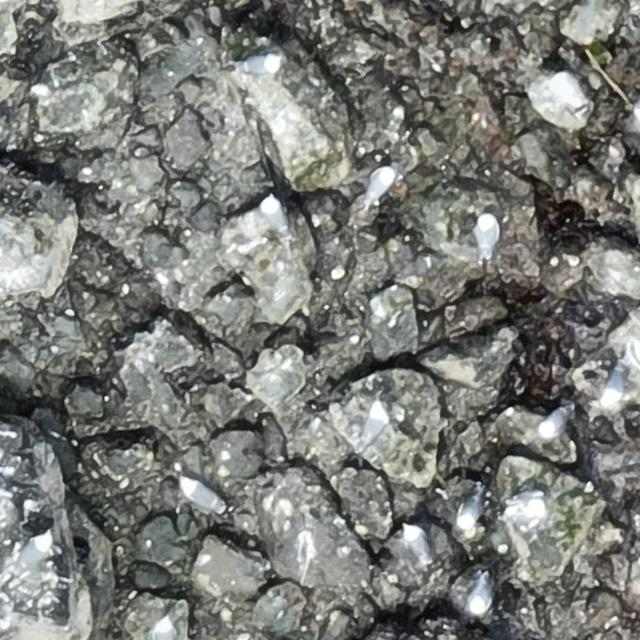umineko: (178, 478, 226, 512), (12, 534, 52, 572), (261, 196, 293, 243), (456, 487, 488, 529), (362, 168, 396, 203), (363, 402, 388, 448), (466, 573, 494, 613), (600, 368, 626, 408), (403, 522, 429, 560), (539, 410, 571, 439), (238, 54, 278, 75), (476, 215, 497, 253)
